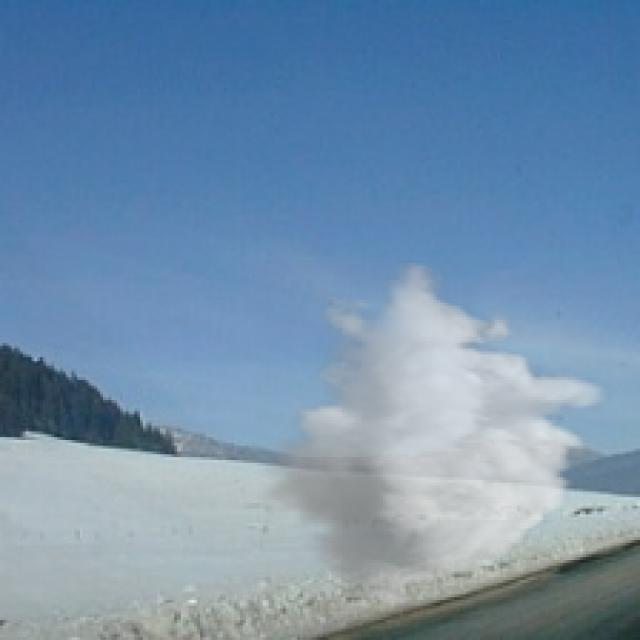smoke: (257, 260, 612, 611)
